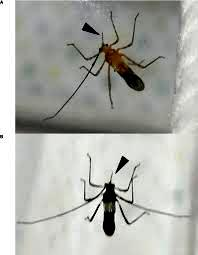Helopeltis-insect: (98, 34, 146, 96), (101, 180, 119, 239)
